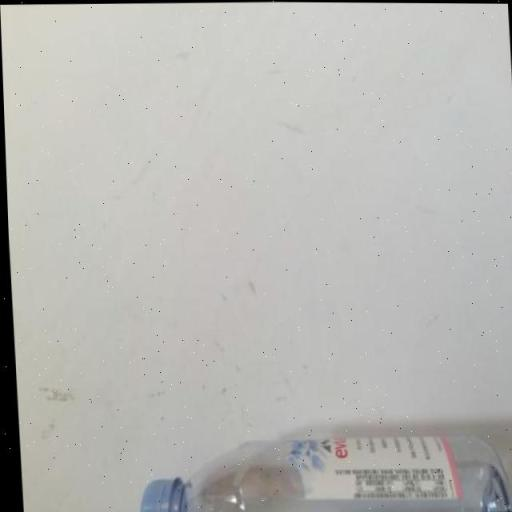plastic: (130, 430, 512, 512)
